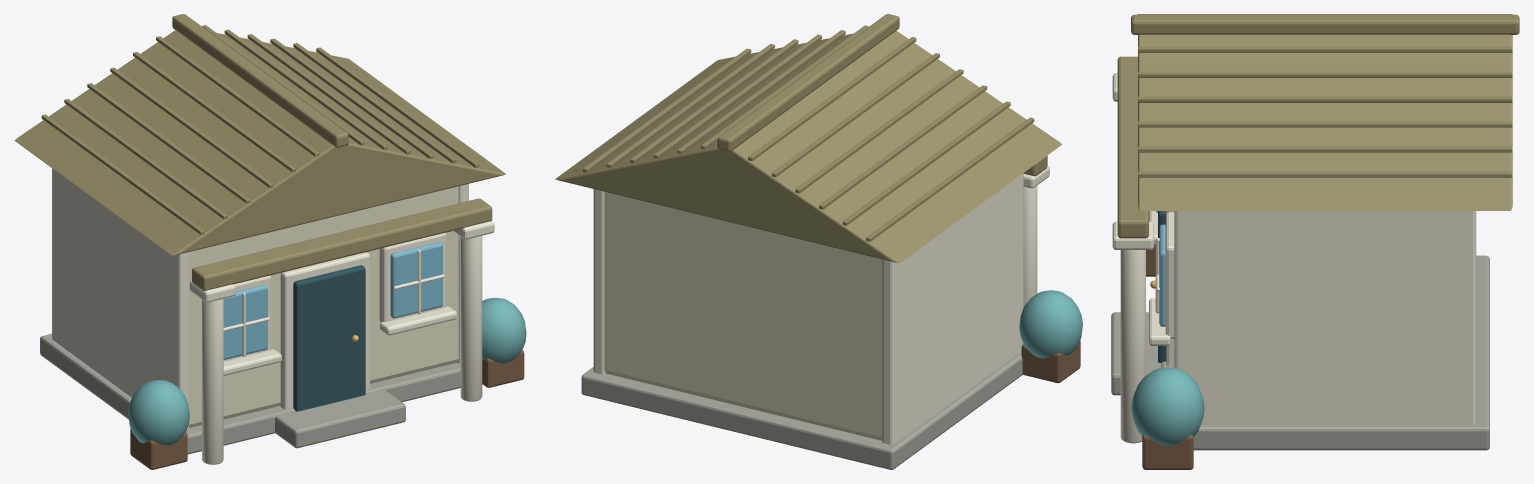
Rendered from house-celestial.glb.
The picture shows the model from 3 angles, left to right: view 1: azimuth 30°, elevation 25°; view 2: azimuth 150°, elevation 25°; view 3: azimuth 270°, elevation 25°; orthographic projection. The views are drawn at different scales.
Visible parts, largest first — view 1: Geometry_Roof, Geometry_Trim, Geometry_Wall, Geometry_Foundation, Geometry_Door, Geometry_Plant, Geometry_Glass, Geometry_Wood; view 2: Geometry_Roof, Geometry_Wall, Geometry_Trim, Geometry_Foundation, Geometry_Plant, Geometry_Wood; view 3: Geometry_Roof, Geometry_Trim, Geometry_Foundation, Geometry_Plant, Geometry_Wood, Geometry_Glass.
Part boxes in pixels (x1,y1,x2,y2): Geometry_Roof: [14, 14, 505, 290]; Geometry_Trim: [52, 168, 494, 464]; Geometry_Wall: [189, 186, 458, 427]; Geometry_Foundation: [40, 333, 460, 454]; Geometry_Door: [293, 265, 365, 411]; Geometry_Plant: [128, 297, 526, 445]; Geometry_Glass: [223, 242, 442, 359]; Geometry_Wood: [130, 350, 524, 469]; Geometry_Roof: [555, 14, 1061, 263]; Geometry_Wall: [604, 191, 882, 440]; Geometry_Trim: [593, 165, 1049, 444]; Geometry_Foundation: [581, 351, 1022, 469]; Geometry_Plant: [1019, 290, 1082, 358]; Geometry_Wood: [1021, 340, 1080, 383]; Geometry_Roof: [1117, 14, 1519, 238]; Geometry_Trim: [1112, 73, 1476, 443]; Geometry_Foundation: [1111, 255, 1489, 450]; Geometry_Plant: [1131, 245, 1204, 445]; Geometry_Wood: [1142, 248, 1193, 469]; Geometry_Glass: [1159, 224, 1165, 326].
Size of the model in its own units: 5.8 by 4.19 by 4.46.
